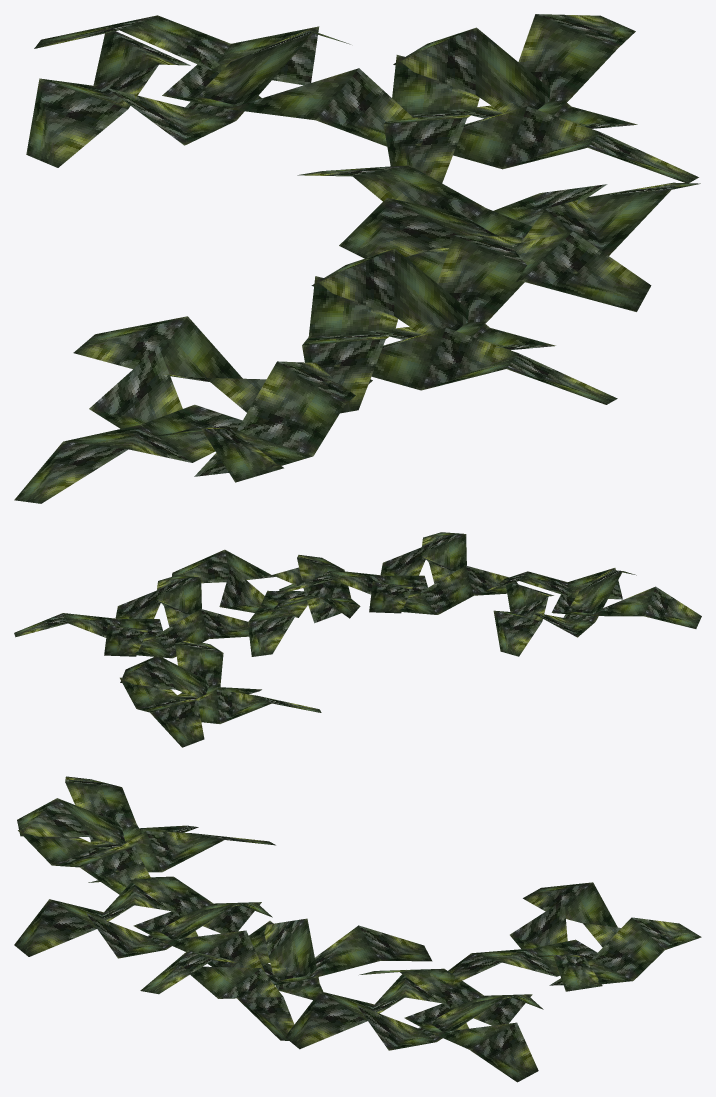
File: Grass02.obj
3 renders of one model, top to bottom at view 1: azimuth 30°, elevation 25°; view 2: azimuth 150°, elevation 25°; view 3: azimuth 270°, elevation 25°, orthographic. The views are drawn at different scales.
Parts seen in each view (by area): view 1: Mesh_0; view 2: Mesh_0; view 3: Mesh_0.
Boxes of the visible parts, x1,y1,x2,y2 form: Mesh_0: (14,14,700,503); Mesh_0: (14,532,701,747); Mesh_0: (14,776,701,1082).
Bounding box in the file's own units: 5.06 × 0.2892 × 4.85.
1 material, 1 textured.
